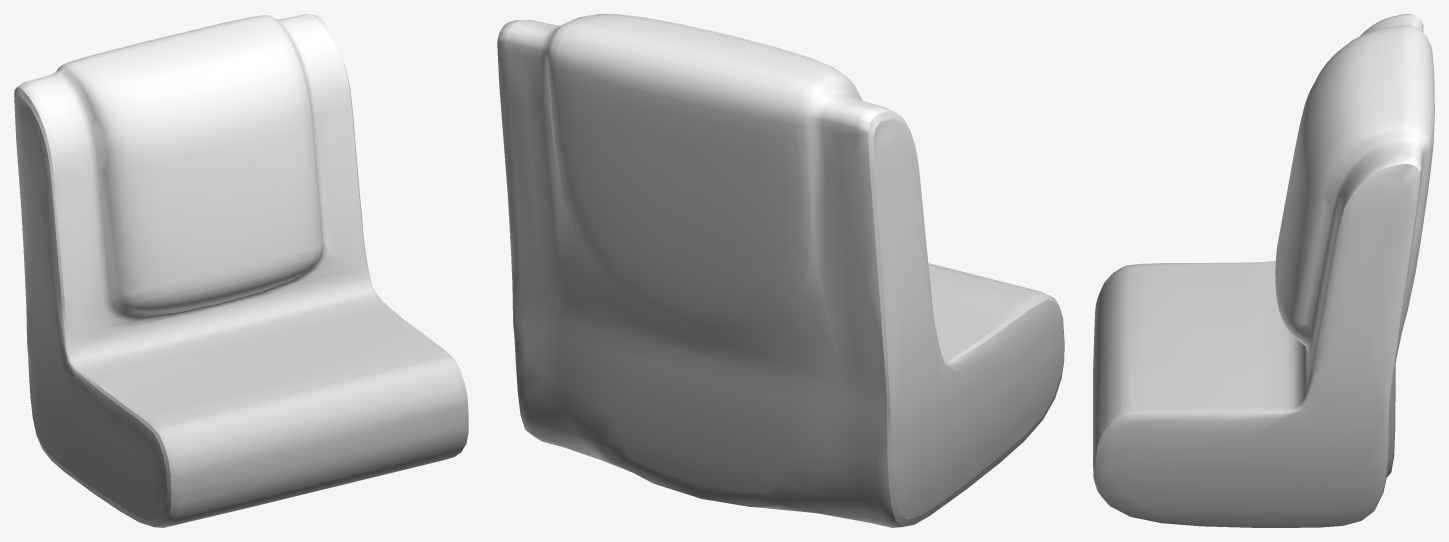
File: Seat.fbx
3 renders of one model, left to right at view 1: azimuth 30°, elevation 25°; view 2: azimuth 150°, elevation 25°; view 3: azimuth 270°, elevation 25°, orthographic. The views are drawn at different scales.
Visible parts, largest first — view 1: Seat; view 2: Seat; view 3: Seat.
Boxes of the visible parts, x1=… form: Seat: x1=14, y1=14, x2=468, y2=527; Seat: x1=497, y1=14, x2=1064, y2=527; Seat: x1=1093, y1=14, x2=1434, y2=527.
Size of the model in its own units: 200 by 231 by 187.
